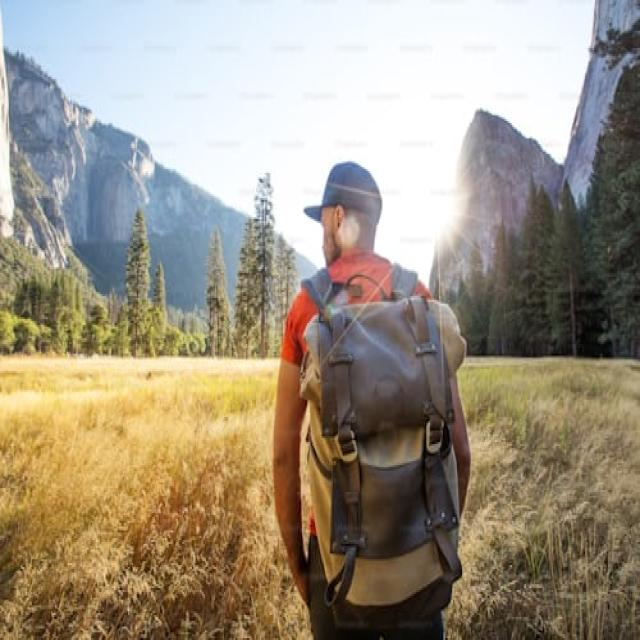backpack: (298, 264, 464, 639)
